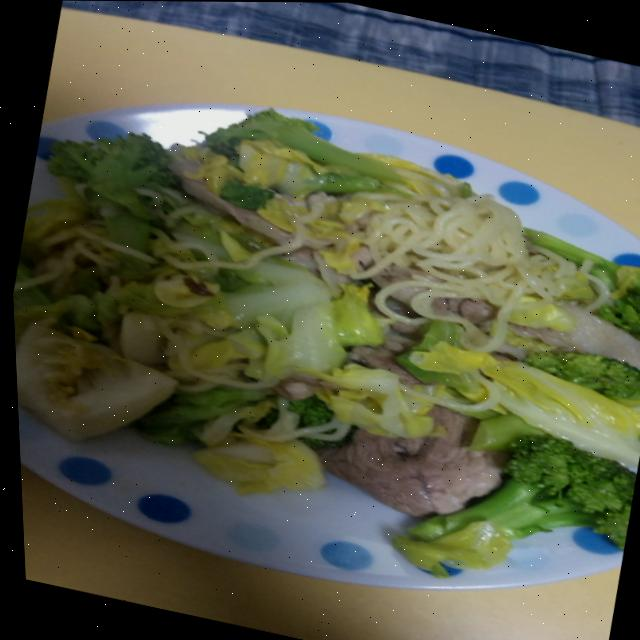蔬菜料理: (2, 58, 640, 640)
